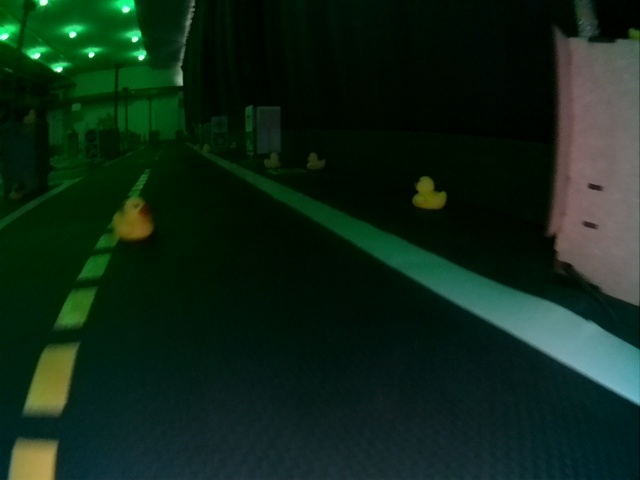Duckie: (112, 198, 154, 239), (412, 177, 444, 207), (307, 154, 326, 169), (265, 154, 280, 168)
